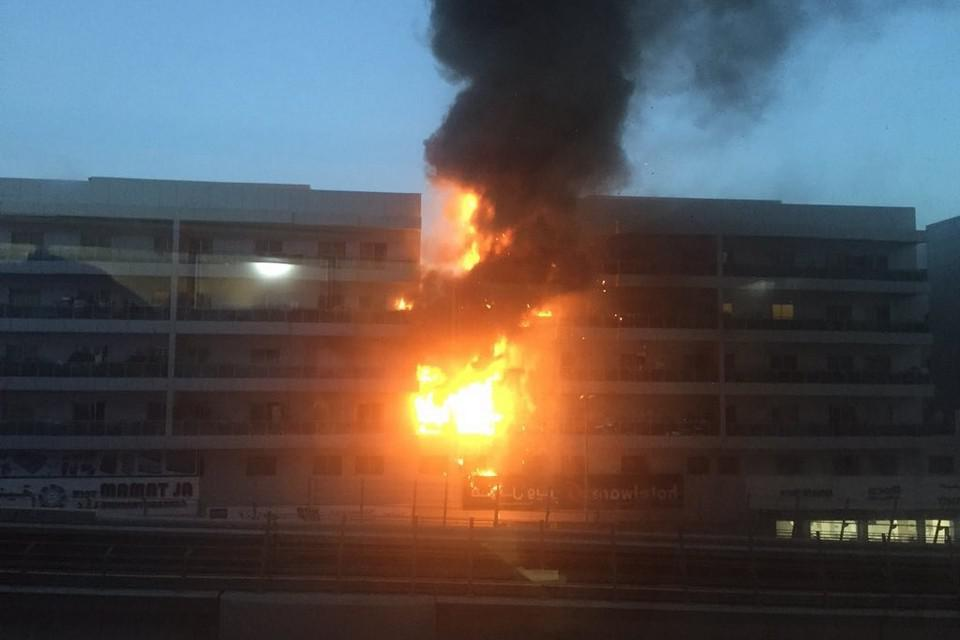fire: (392, 338, 542, 478), (446, 187, 490, 281)
